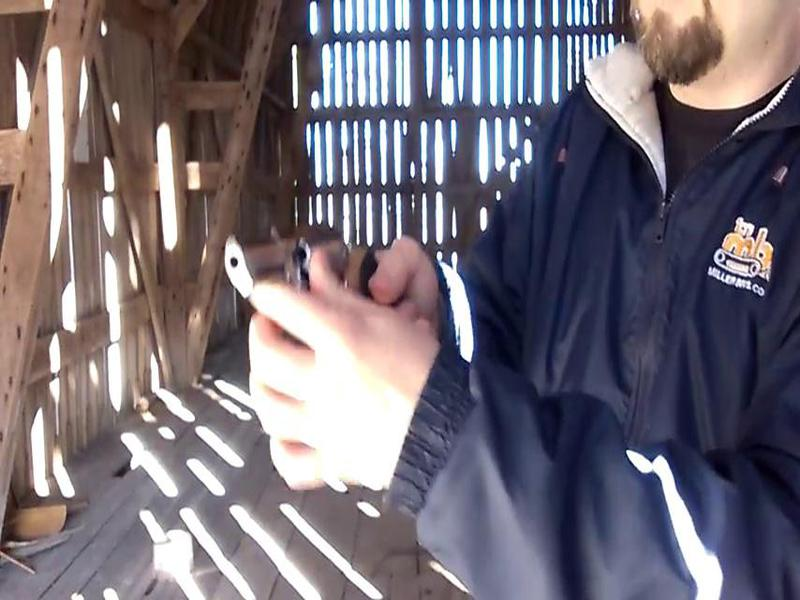Revolver: (197, 206, 435, 339)
